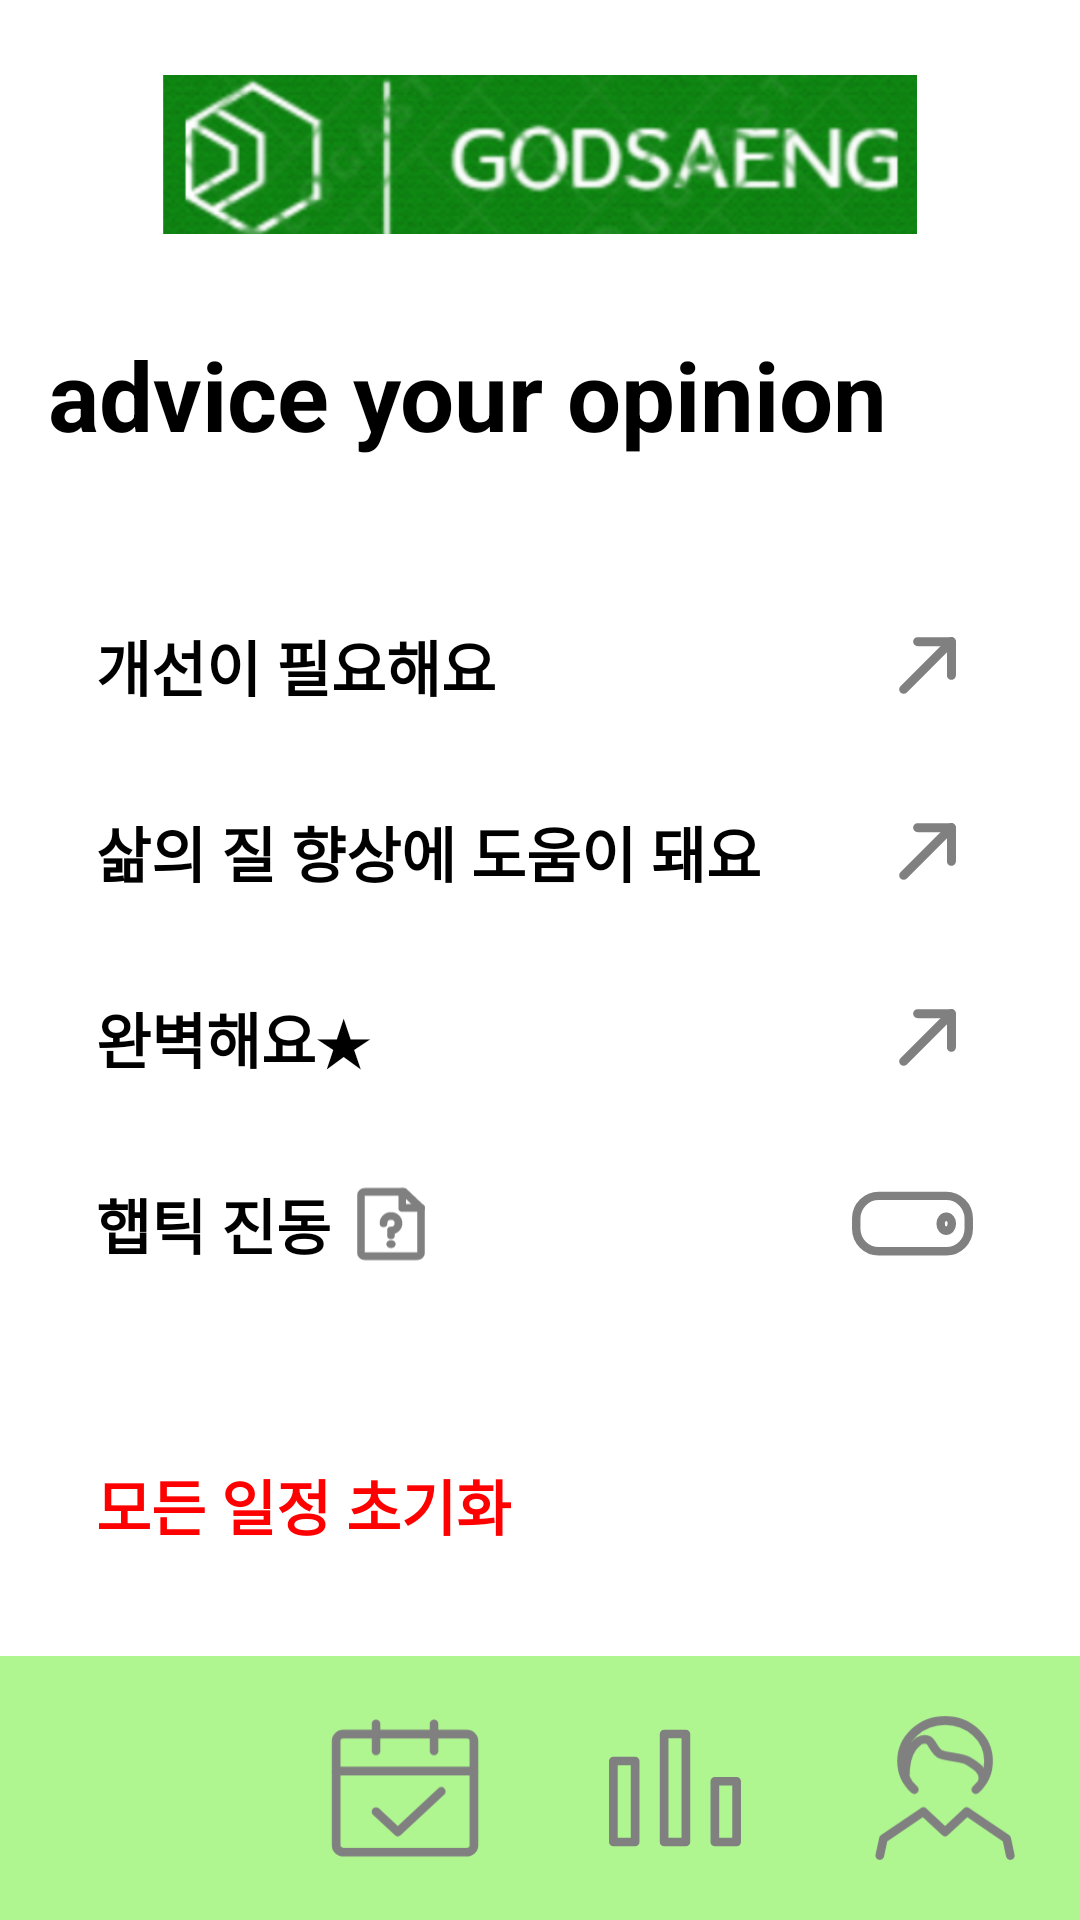

Named icons in this screenshot (1080w x 1920h) and their bounding boxes, {"x1": x1, "y1": y1, "x2": x2, "y2": y2}:
arrow top right: {"x1": 899, "y1": 637, "x2": 956, "y2": 694}, {"x1": 899, "y1": 823, "x2": 956, "y2": 880}, {"x1": 899, "y1": 1009, "x2": 956, "y2": 1066}
documents: {"x1": 357, "y1": 1187, "x2": 425, "y2": 1261}
toggle switch: {"x1": 852, "y1": 1191, "x2": 973, "y2": 1256}
